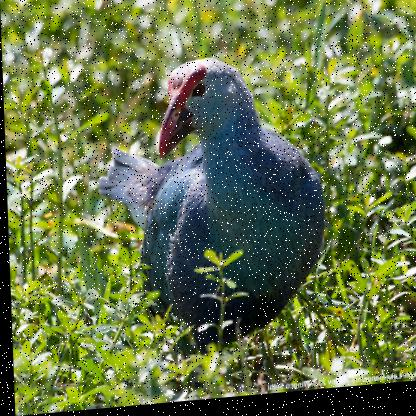Burung: (95, 51, 329, 385)
